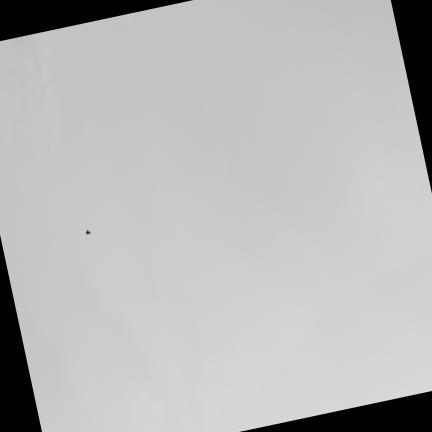Shahed: (86, 230, 90, 234)
